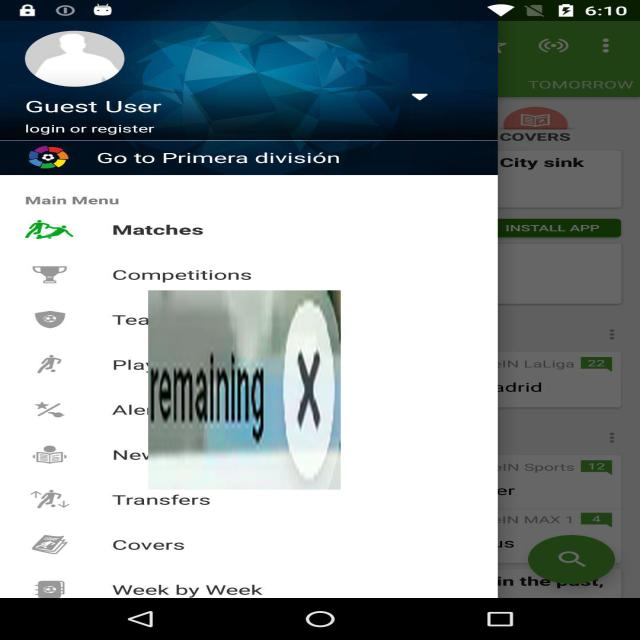misdirection: (148, 290, 341, 490)
